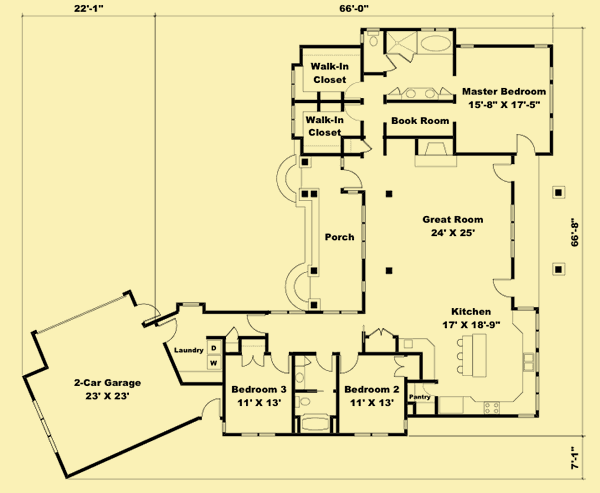door: (134, 298, 163, 326), (158, 313, 181, 347), (511, 131, 540, 157), (244, 311, 273, 336), (267, 348, 293, 375), (338, 349, 363, 377), (488, 160, 516, 185), (335, 166, 364, 190), (487, 276, 516, 299), (201, 393, 224, 420), (239, 349, 266, 372), (345, 80, 368, 104), (311, 352, 336, 374), (393, 353, 408, 381), (221, 323, 241, 341)
kitchen bar: (452, 330, 491, 382)
large sink: (292, 391, 313, 413), (365, 25, 383, 50)
tub: (291, 411, 341, 438), (416, 28, 456, 57), (296, 412, 336, 431)
windows: (29, 395, 61, 460), (504, 200, 518, 263), (358, 201, 370, 263), (286, 62, 302, 103), (349, 429, 394, 440), (533, 311, 544, 353), (239, 430, 279, 440), (533, 371, 542, 413), (289, 102, 299, 137)
